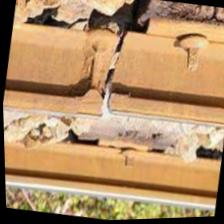person: (61, 23, 160, 128)
